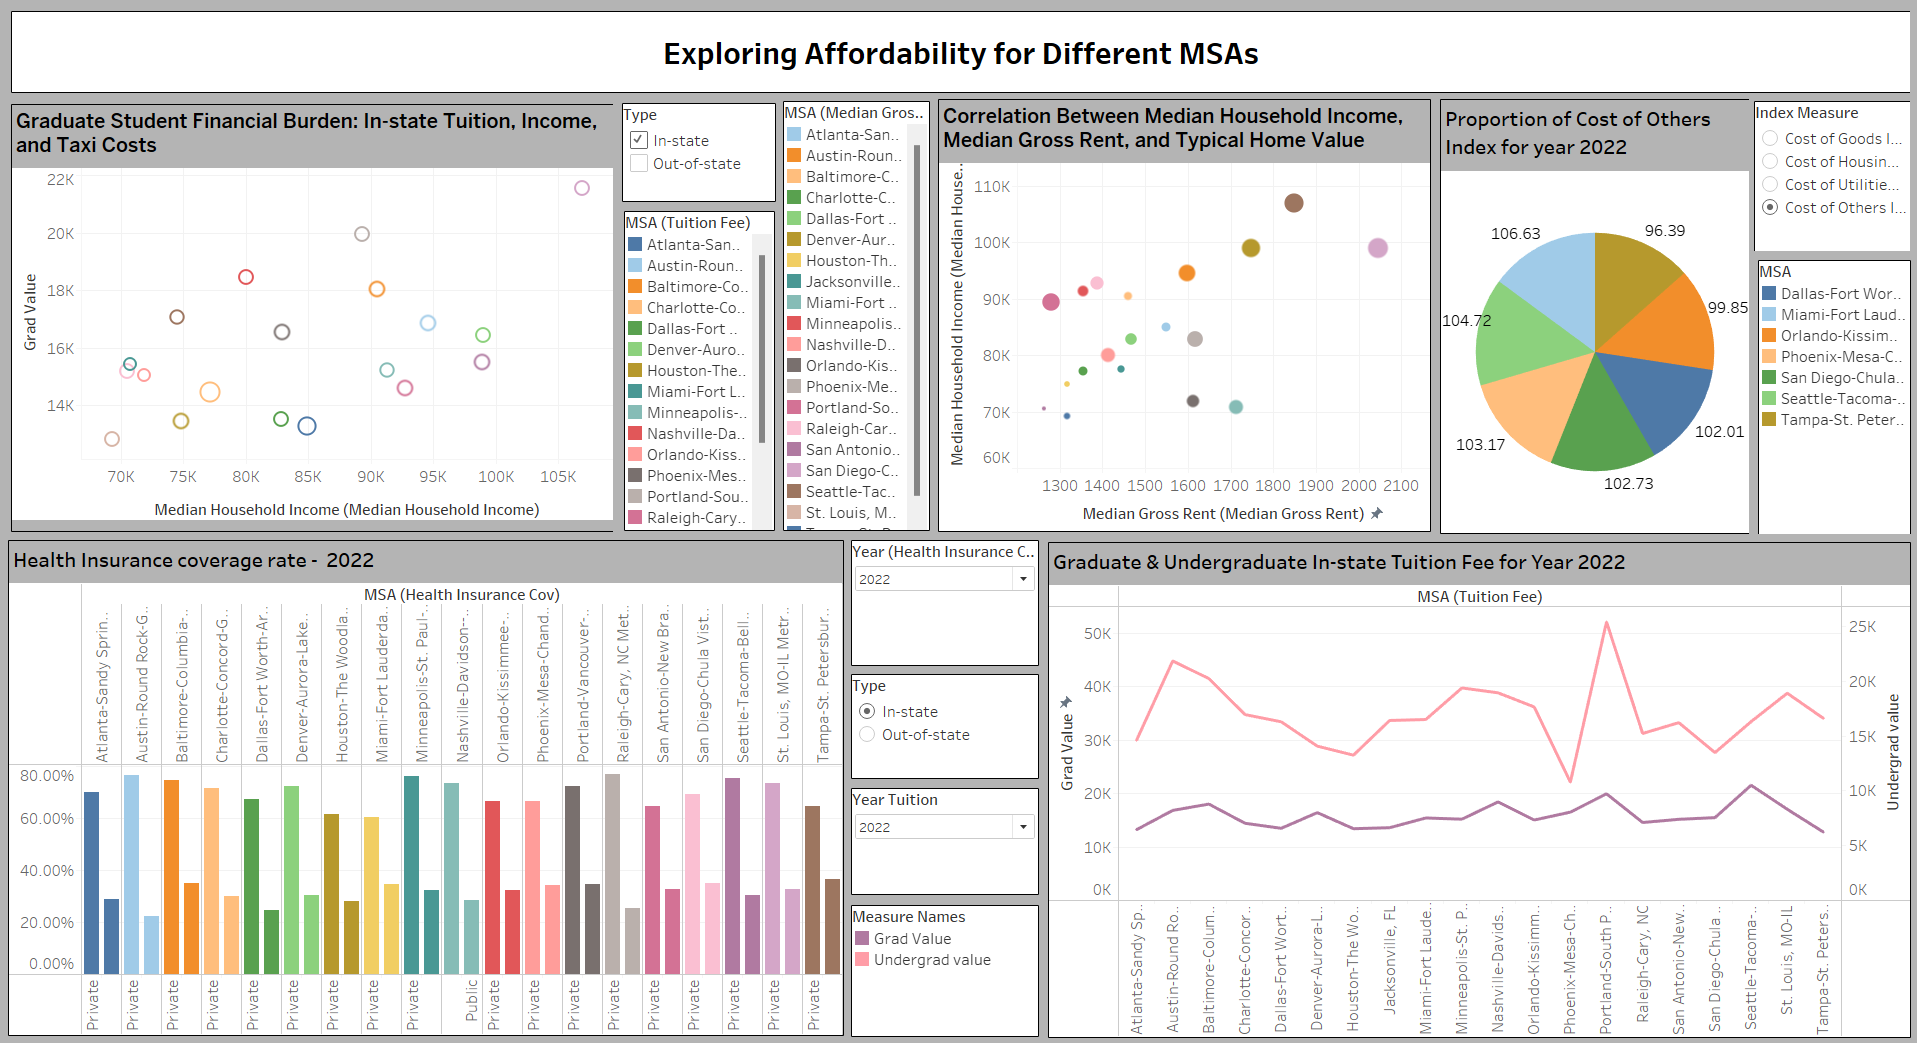

The dashboard page shown, as its layout file describes it:
{"tool":"tableau","page":{"name":"Dashboard 2","canvas":[1000,1000],"units":"permille","ordinal":1},"visuals":[{"type":"text","box":[5.5,10.6,989.6,78.7]},{"type":"worksheet","title":"Correlation of Median Household income and Median Gross rent","mark":"Circle","rows":["Median Household Income"],"cols":["Median Gross Rent"],"box":[488.7,95.2,256.9,414.8]},{"type":"worksheet","title":"Proportion of Indexes","mark":"Pie","box":[749.9,95.2,161.2,417.2]},{"type":"legend","title":"Correlation of Median Household income and Median Gross rent","param":"[federated.0nevhgp1u82rwp0zt3kas08m5gsg].[none:MSA (Median Gross Rent):nk]","box":[407.7,96.4,76.6,412.5]},{"type":"parameter","param":"[Parameters].[Parameter 2]","box":[913.6,96.4,81.5,144.5]},{"type":"filter","title":"Graduate Student Financial Burden","param":"[federated.0nevhgp1u82rwp0zt3kas08m5gsg].[none:type:nk]","box":[323.7,98.7,80.3,95.2]},{"type":"worksheet","title":"Graduate Student Financial Burden","mark":"Automatic","rows":["Grad Value"],"cols":["Median Household Income"],"box":[5.5,99.9,313.9,410.1]},{"type":"legend","title":"Graduate Student Financial Burden","param":"[federated.0nevhgp1u82rwp0zt3kas08m5gsg].[none:MSA (Tuition Fee):nk]","box":[324.9,202.1,78.5,306.7]},{"type":"legend","title":"Proportion of Indexes","param":"[federated.0nevhgp1u82rwp0zt3kas08m5gsg].[none:MSA:nk]","box":[915.4,249.1,80.3,263.2]},{"type":"worksheet","title":"Health Insurance coverage rate","mark":"Bar","cols":["MSA (Health Insurance Cov)"],"box":[4.3,518.2,435.3,475.9]},{"type":"filter","title":"Health Insurance coverage rate","param":"[federated.0nevhgp1u82rwp0zt3kas08m5gsg].[yr:Year (Health Insurance Cov):ok]","box":[443.3,518.2,98.1,121]},{"type":"worksheet","title":"Graduate & Undergraduate Tuition fee","mark":"Line","rows":["Grad Value","Undergrad value"],"cols":["MSA (Tuition Fee)"],"box":[545.7,519.4,450,475.9]},{"type":"filter","title":"Graduate & Undergraduate Tuition fee","param":"[federated.0nevhgp1u82rwp0zt3kas08m5gsg].[none:type:nk]","box":[443.3,646.3,98.1,101.1]},{"type":"filter","title":"Graduate & Undergraduate Tuition fee","param":"[federated.0nevhgp1u82rwp0zt3kas08m5gsg].[yr:year:ok]","box":[443.3,755.6,98.1,102.2]},{"type":"legend","title":"Graduate & Undergraduate Tuition fee","param":"[federated.0nevhgp1u82rwp0zt3kas08m5gsg].[:Measure Names]","box":[443.3,867.2,98.1,126.9]}]}

Visuals, with their boxes on the dashboard's canvas, which has no fixed pixel size, in thousandths of its width and height (x1, y1, x2, y2). These are canvas units, not pixel positions in the 1917x1043 screenshot, which may show the page scaled, cropped or inside an application window:
text: 6:11:995:89
"Correlation of Median Household income and Median Gross rent" worksheet (Circle marks): 489:95:746:510
"Proportion of Indexes" worksheet (Pie marks): 750:95:911:512
"Correlation of Median Household income and Median Gross rent" legend: 408:96:484:509
parameter: 914:96:995:241
"Graduate Student Financial Burden" filter: 324:99:404:194
"Graduate Student Financial Burden" worksheet: 6:100:319:510
"Graduate Student Financial Burden" legend: 325:202:403:509
"Proportion of Indexes" legend: 915:249:996:512
"Health Insurance coverage rate" worksheet (Bar marks): 4:518:440:994
"Health Insurance coverage rate" filter: 443:518:541:639
"Graduate & Undergraduate Tuition fee" worksheet (Line marks): 546:519:996:995
"Graduate & Undergraduate Tuition fee" filter: 443:646:541:747
"Graduate & Undergraduate Tuition fee" filter: 443:756:541:858
"Graduate & Undergraduate Tuition fee" legend: 443:867:541:994
